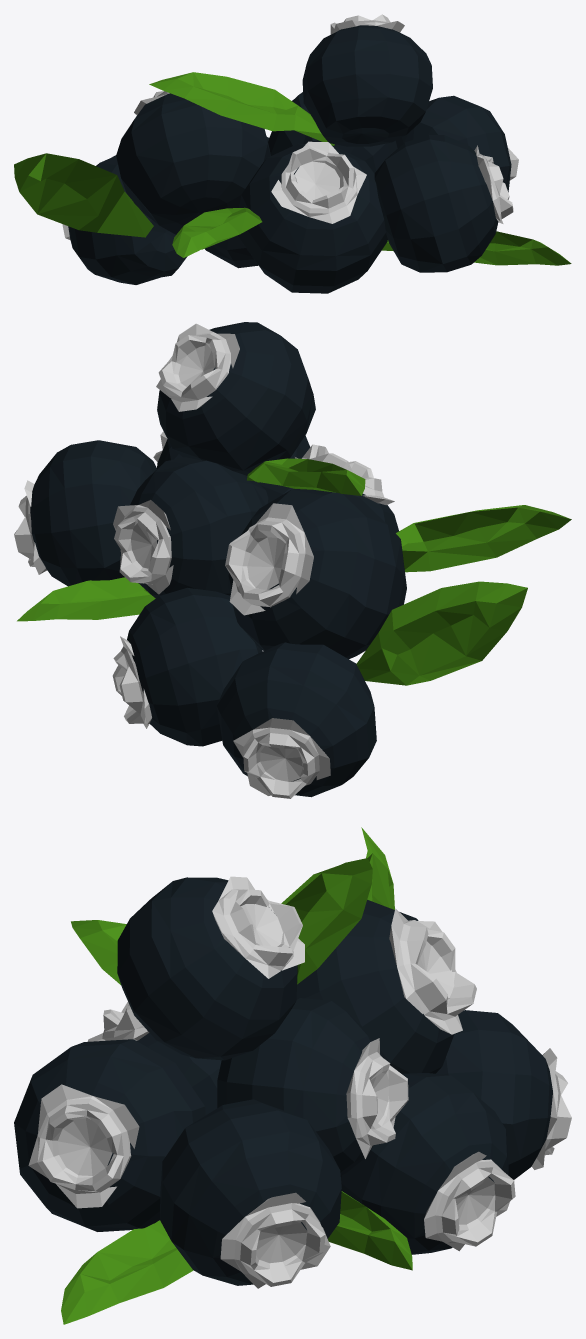
3 renders of one model, top to bottom at view 1: azimuth 30°, elevation 25°; view 2: azimuth 150°, elevation 25°; view 3: azimuth 270°, elevation 25°, orthographic. The views are drawn at different scales.
Bounding box in the file's own units: 0.8401 × 0.501 × 0.628.
